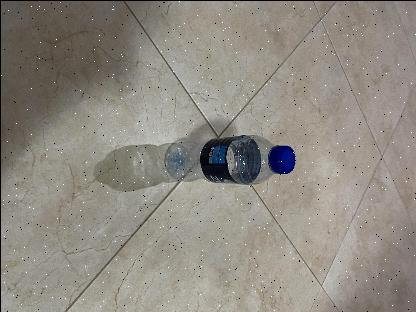Plastic Bottle: (163, 134, 294, 184)
